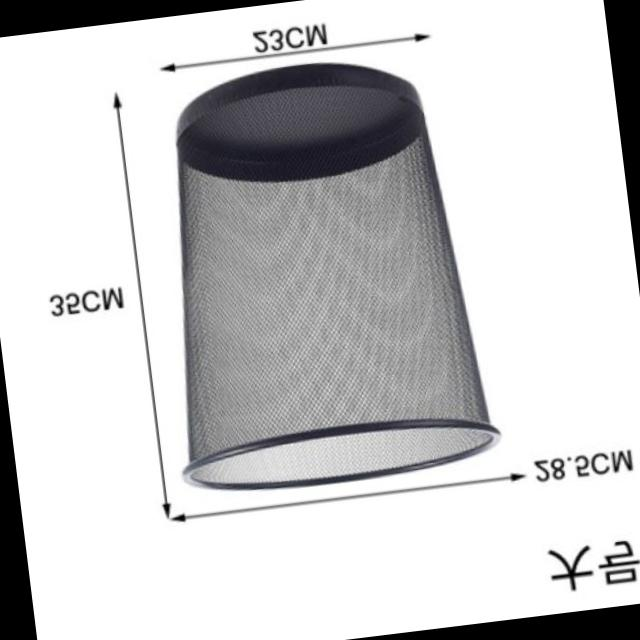dustbin: (130, 41, 506, 508)
